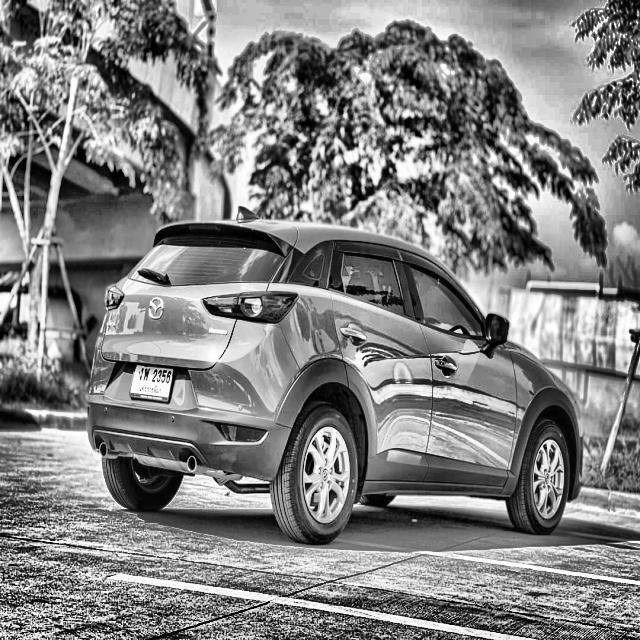license-plate: (132, 363, 174, 401)
